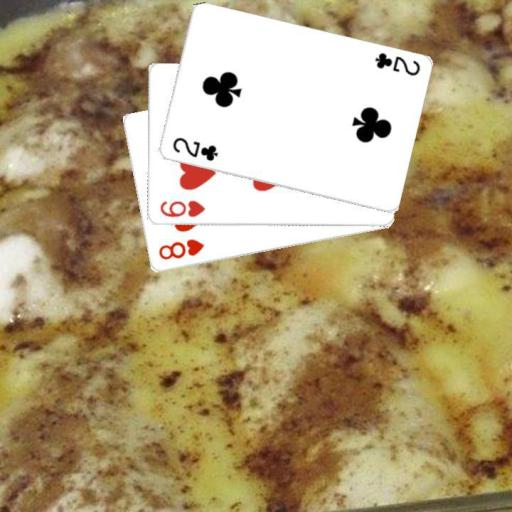2C: (169, 134, 219, 163), (371, 50, 422, 77)
6H: (157, 198, 207, 219)
8H: (155, 236, 206, 262)
